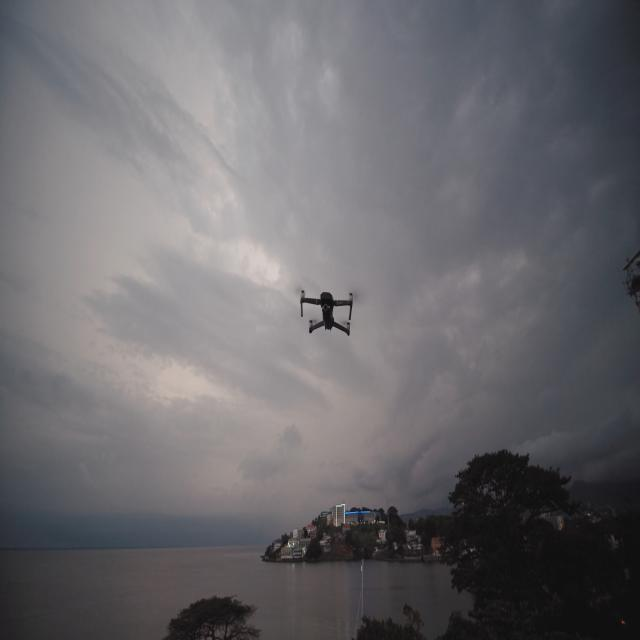drone: (299, 289, 353, 336)
